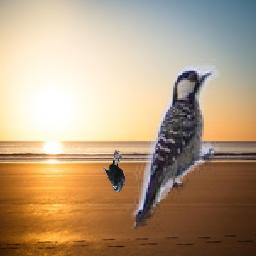Crow: (101, 150, 126, 195)
Woodpecker: (128, 59, 221, 233)
